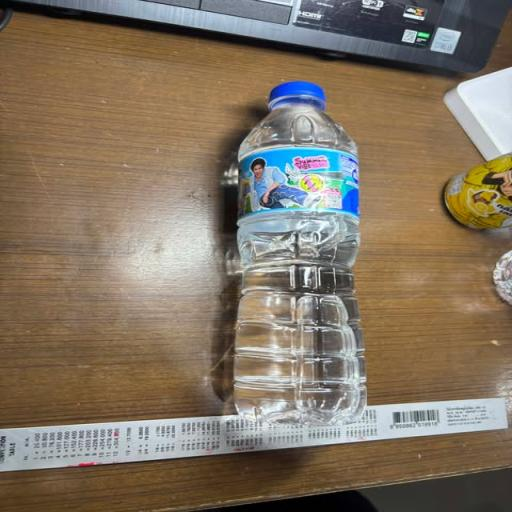bottle: (203, 66, 398, 437)
